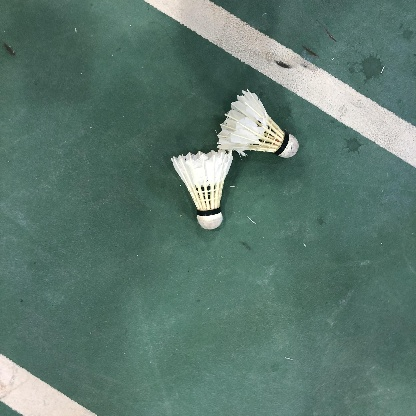ball_single: (217, 90, 299, 158), (171, 148, 233, 230)
